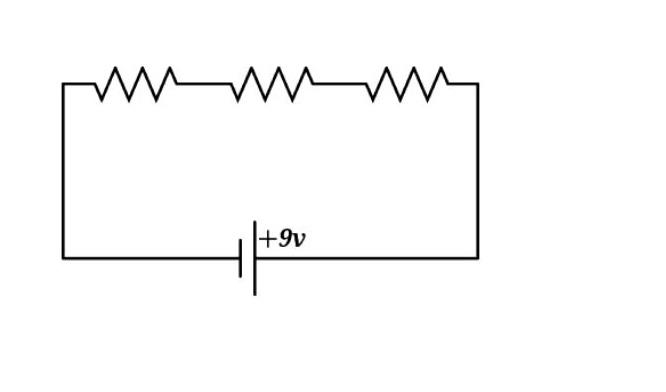resistor: (336, 56, 462, 123), (76, 47, 194, 117), (223, 63, 320, 115)
